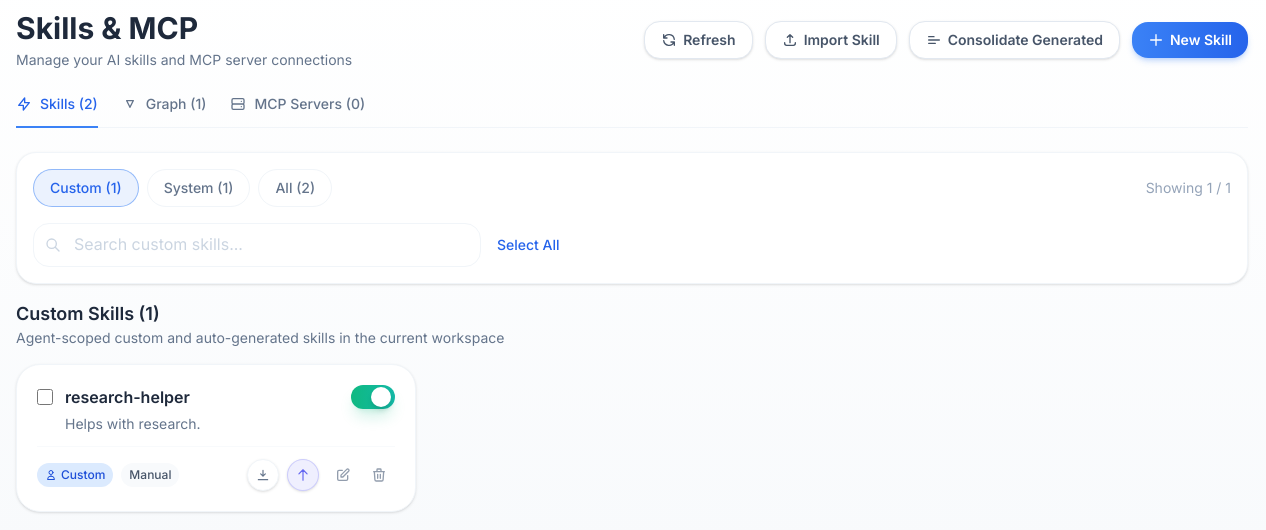
SkillsPage › switches between custom and system skill tabs
Expected: the button "Custom (1)" is shown, [33,169,139,207]
Expected: the heading "research-helper" is shown, [65,385,190,410]
Click the button "System (1)" at (198, 188), box [147,169,250,207]
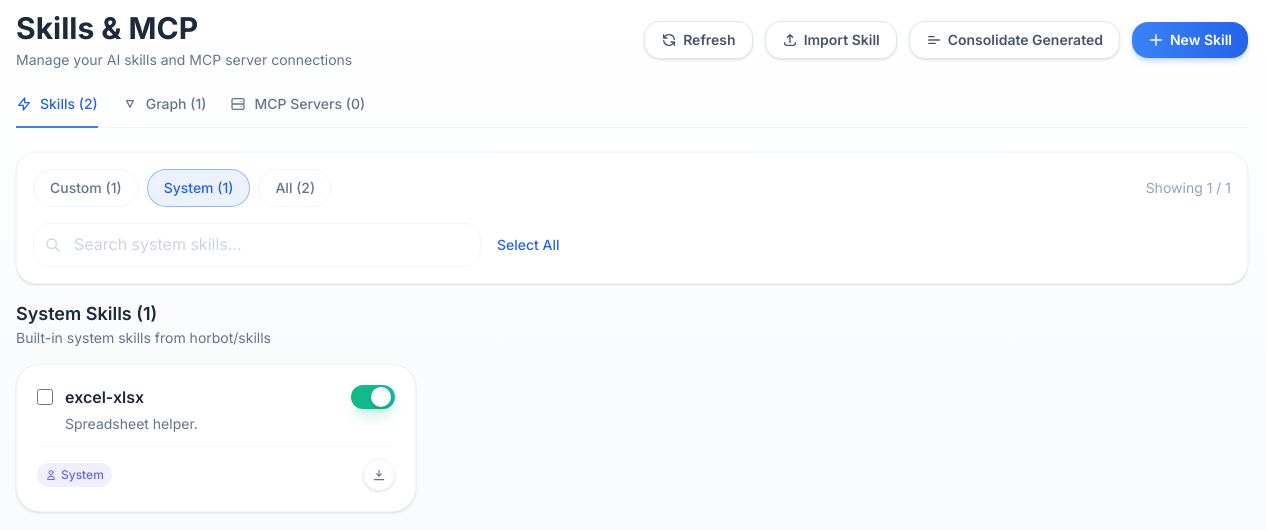
Expected: the heading "excel-xlsx" is shown, [65,385,144,410]
Expected: the text "System" is shown, [37,463,112,487]
